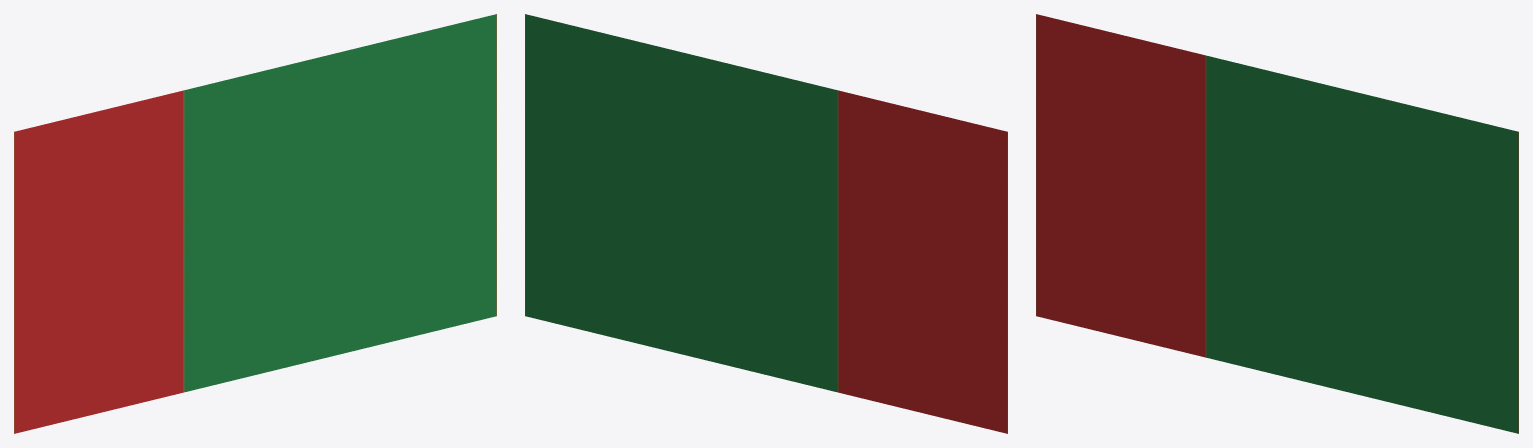
Rendered from SM_ClubFlag.fbx.
3 renders of one model, left to right at view 1: azimuth 30°, elevation 25°; view 2: azimuth 150°, elevation 25°; view 3: azimuth 330°, elevation 25°, orthographic.
Parts seen in each view (by area): view 1: SM_ClubFlag; view 2: SM_ClubFlag; view 3: SM_ClubFlag.
Part boxes in pixels (x1,y1,x2,y2): SM_ClubFlag: (14,14,496,433); SM_ClubFlag: (525,14,1007,433); SM_ClubFlag: (1036,14,1518,433).
Size of the model in its own units: 1.84 by 1.1 by 4.81e-08.
1 material, 1 textured.
